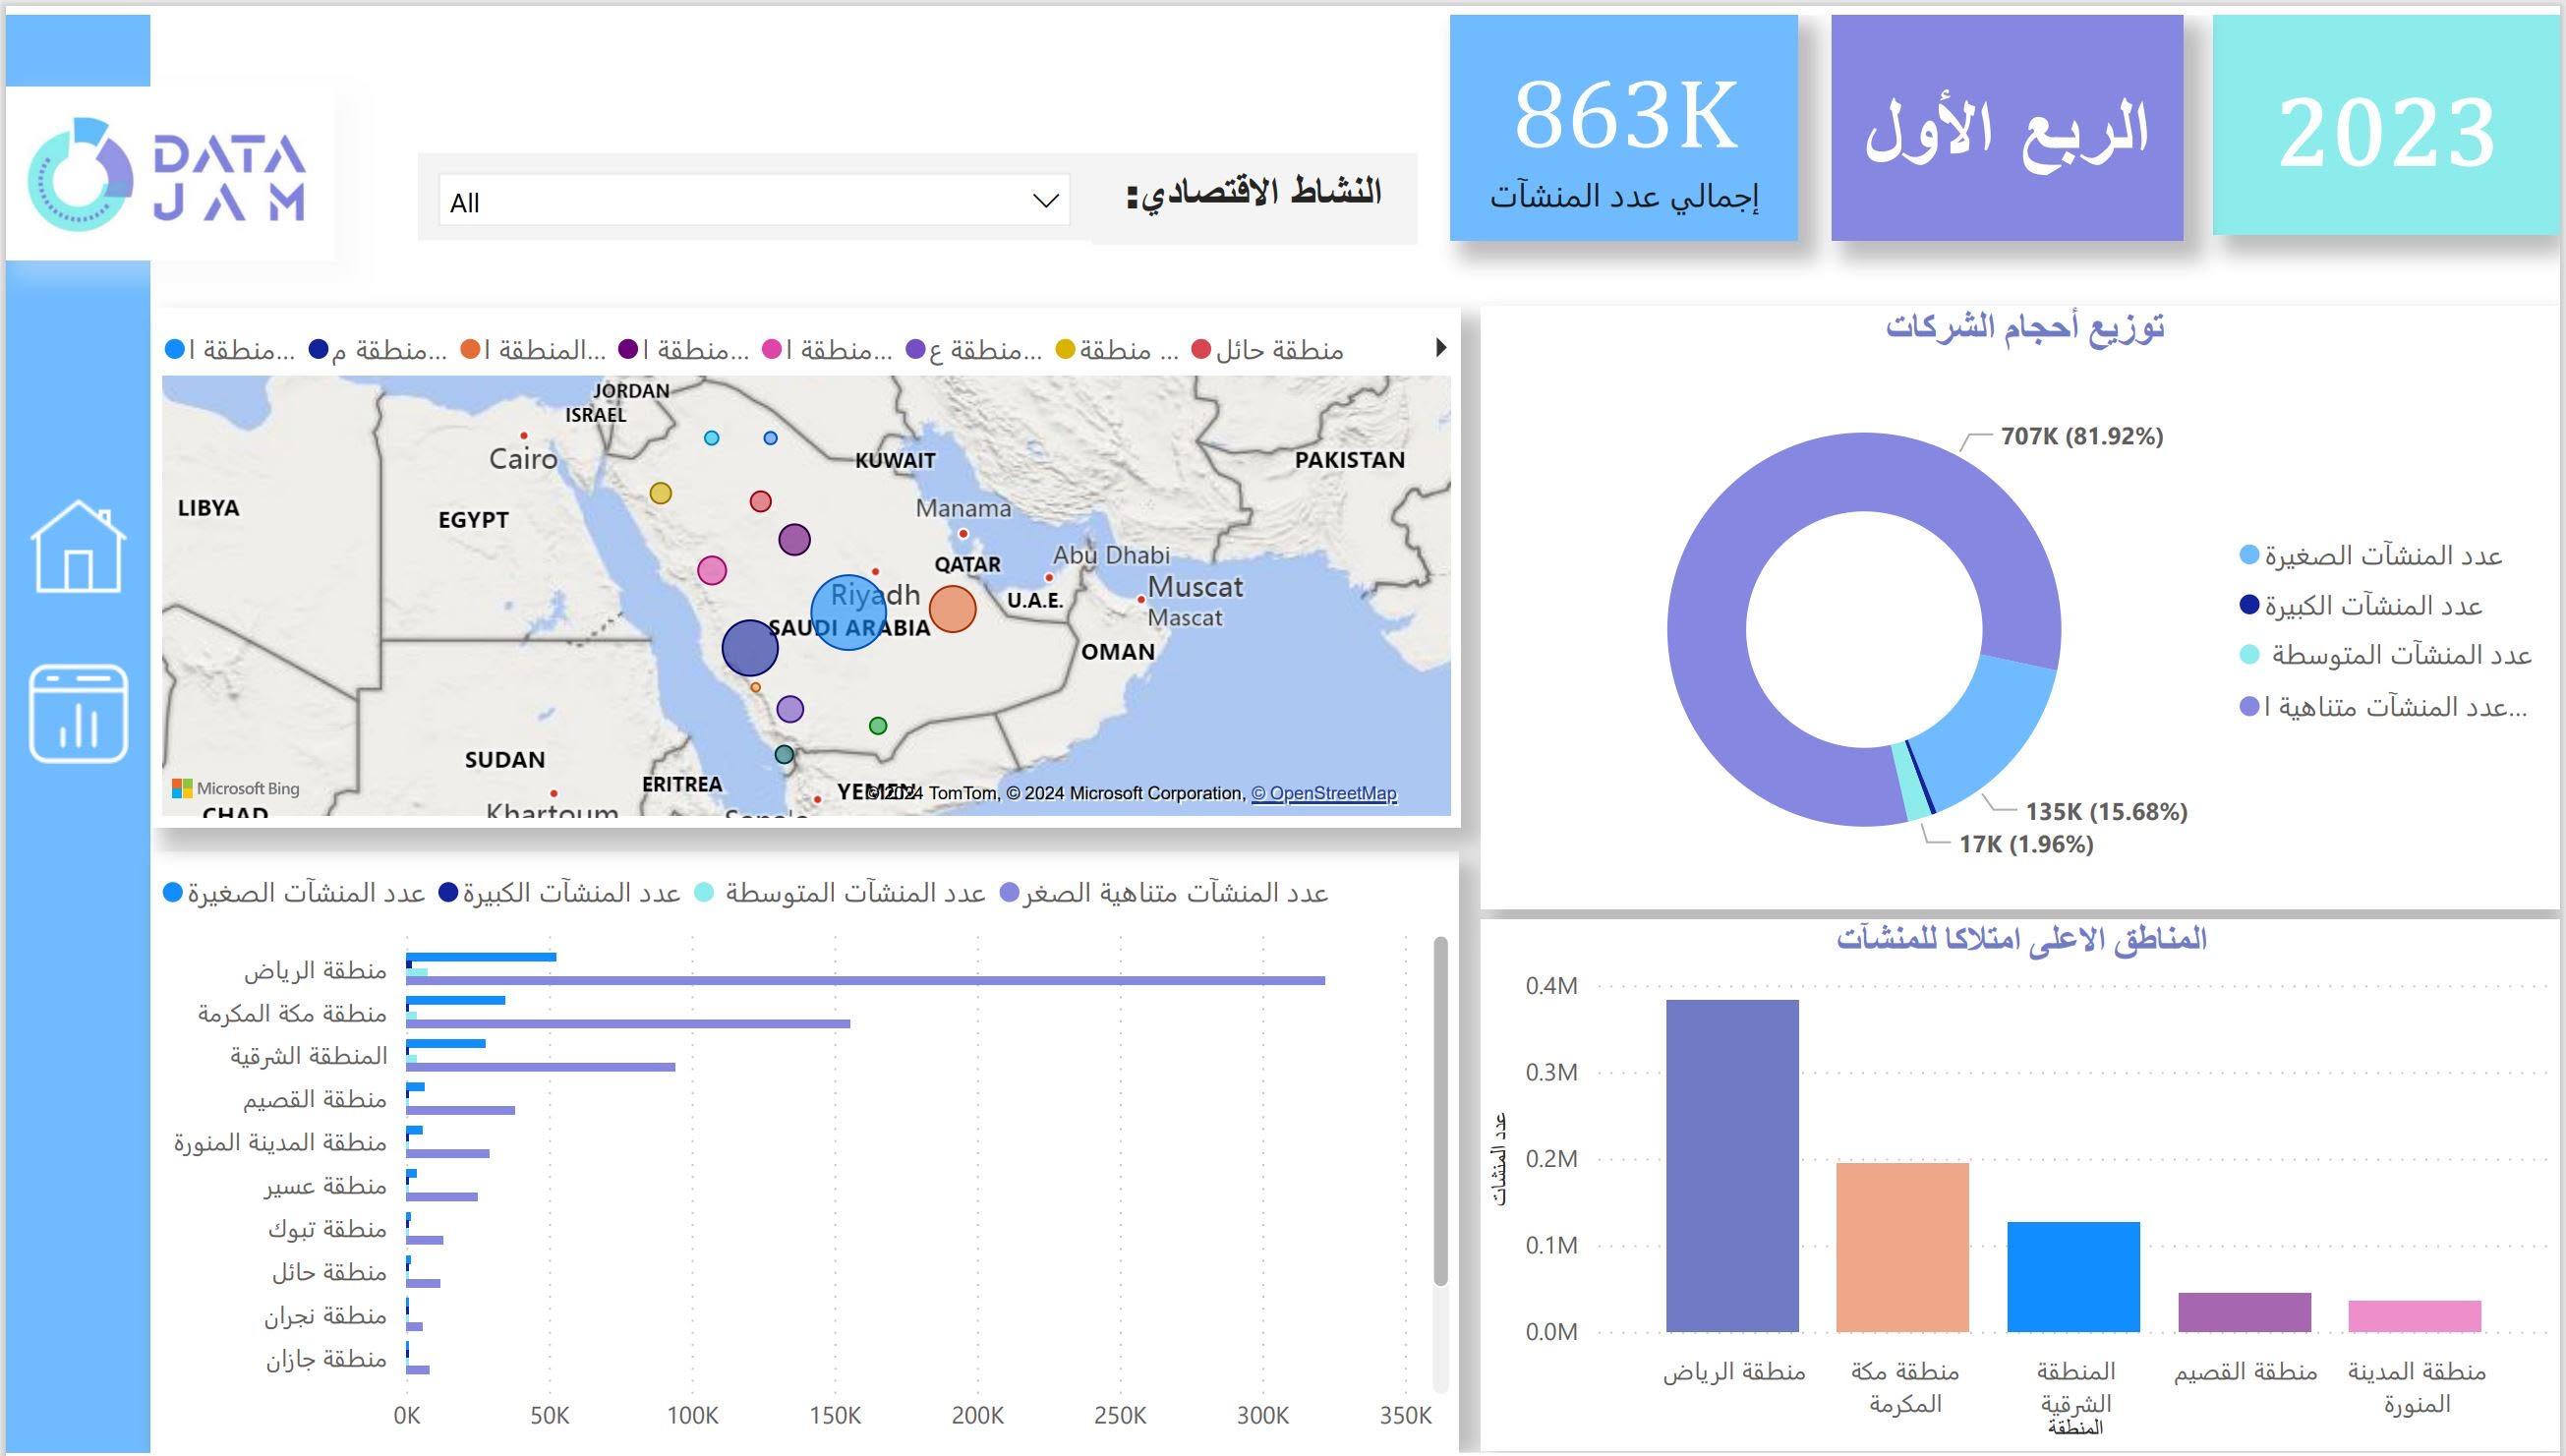

The dashboard page shown, as its layout file describes it:
{"tool":"powerbi","page":{"name":"Analysis","canvas":[1280,720],"ordinal":1},"visuals":[{"type":"shape","box":[0,0,72.7,720.4],"z":0},{"type":"image","box":[0,35.7,164.8,86.5],"z":1000},{"type":"clusteredBarChart","fields":{"Category":["Table 1 (Number Of SME's 2023-Q1).المنطقة"],"Y":["Sum(Table 1 (Number Of SME's 2023-Q1).عدد المنشآت الصغيرة)","Sum(Table 1 (Number Of SME's 2023-Q1).عدد المنشآت الكبيرة)","Sum(Table 1 (Number Of SME's 2023-Q1).عدد المنشآت المتوسطة)","Sum(Table 1 (Number Of SME's 2023-Q1).عدد المنشآت متناهية الصغر)"]},"box":[72.8,418.9,655.1,300.8],"z":2000},{"type":"image","box":[0,319.7,72.7,60.4],"z":3000},{"type":"image","box":[0,237.4,74.1,60.4],"z":4000},{"type":"card","fields":{"Values":["Max(Table 1 (Number Of SME's 2023-Q1).السنة)"]},"box":[1105.6,0,174.4,109.9],"z":5000},{"type":"card","title":"مجموع عدد المنشآت","fields":{"Values":["Sum(Table 1 (Number Of SME's 2023-Q1).عدد المنشآت)"]},"box":[723.8,0,174.4,112.6],"z":6000},{"type":"card","fields":{"Values":["Min(Table 1 (Number Of SME's 2023-Q1).الربع)"]},"box":[914.7,0,175.8,112.6],"z":7000},{"type":"actionButton","box":[3.3,317.8,63.3,65.6],"z":8000},{"type":"actionButton","box":[5.6,241.1,61.1,53.3],"z":9000},{"type":"map","fields":{"Category":["Table 1 (Number Of SME's 2023-Q1).المنطقة"],"Size":["Sum(Table 1 (Number Of SME's 2023-Q1).عدد المنشآت)"],"Series":["Table 1 (Number Of SME's 2023-Q1).المنطقة"]},"box":[74.2,147,655.1,259.6],"z":10000},{"type":"slicer","fields":{"Values":["Table 1 (Number Of SME's 2023-Q1).النشاط الاقتصادي"]},"box":[207.1,68.6,337.1,44.3],"z":11000},{"type":"donutChart","title":"توزيع أحجام الشركات","fields":{"Y":["Sum(Table 1 (Number Of SME's 2023-Q1).عدد المنشآت الصغيرة)","Sum(Table 1 (Number Of SME's 2023-Q1).عدد المنشآت الكبيرة)","Sum(Table 1 (Number Of SME's 2023-Q1).عدد المنشآت المتوسطة)","Sum(Table 1 (Number Of SME's 2023-Q1).عدد المنشآت متناهية الصغر)"]},"box":[738.9,145.6,545.2,302.1],"z":12000},{"type":"textbox","box":[544.3,68.6,162.9,45.7],"z":13000},{"type":"columnChart","title":"المناطق الاعلى امتلاكا للمنشآت","fields":{"Category":["Table 1 (Number Of SME's 2023-Q1).المنطقة"],"Y":["Sum(Table 1 (Number Of SME's 2023-Q1).عدد المنشآت)"]},"box":[738.9,453.2,542.5,266.4],"z":14000}]}

Visuals, with their boxes in screenshot pixels (x1, y1, x2, y2), scaled from the page's 1280x720 canvas onto the 2566x1456 screenshot:
shape: (x1=0, y1=0, x2=146, y2=1455)
image: (x1=0, y1=72, x2=330, y2=247)
clusteredBarChart - Table 1 (Number Of SME's 2023-Q1).المنطقة x Sum(Table 1 (Number Of SME's 2023-Q1).عدد المنشآت الصغيرة): (x1=146, y1=847, x2=1459, y2=1455)
image: (x1=0, y1=647, x2=146, y2=769)
image: (x1=0, y1=480, x2=148, y2=603)
card - Max(Table 1 (Number Of SME's 2023-Q1).السنة): (x1=2216, y1=0, x2=2565, y2=222)
"مجموع عدد المنشآت" card: (x1=1451, y1=0, x2=1800, y2=228)
card - Min(Table 1 (Number Of SME's 2023-Q1).الربع): (x1=1834, y1=0, x2=2187, y2=228)
actionButton: (x1=7, y1=643, x2=134, y2=776)
actionButton: (x1=11, y1=488, x2=134, y2=596)
map - Table 1 (Number Of SME's 2023-Q1).المنطقة x Sum(Table 1 (Number Of SME's 2023-Q1).عدد المنشآت): (x1=148, y1=297, x2=1462, y2=822)
slicer - Table 1 (Number Of SME's 2023-Q1).النشاط الاقتصادي: (x1=415, y1=139, x2=1091, y2=228)
"توزيع أحجام الشركات" donutChart: (x1=1482, y1=294, x2=2565, y2=905)
textbox: (x1=1091, y1=139, x2=1418, y2=231)
"المناطق الاعلى امتلاكا للمنشآت" columnChart: (x1=1482, y1=916, x2=2565, y2=1455)
